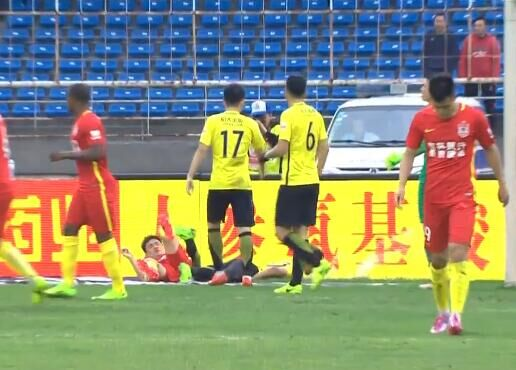fall: (117, 227, 198, 286)
